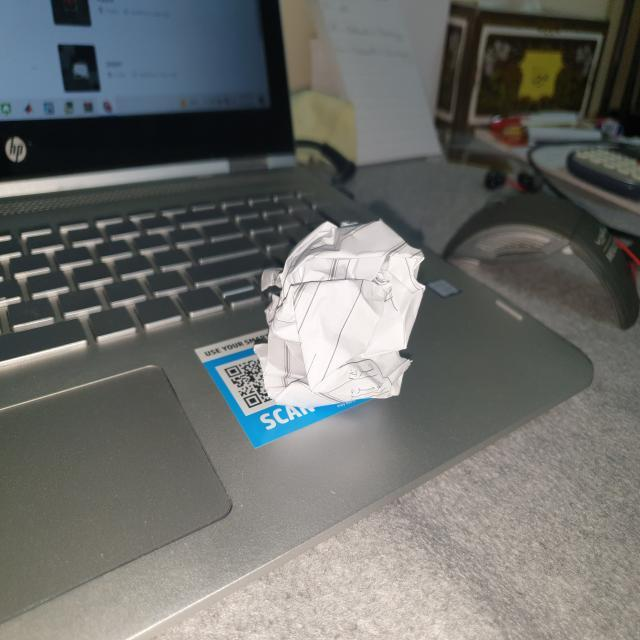Paper: (256, 220, 427, 398)
